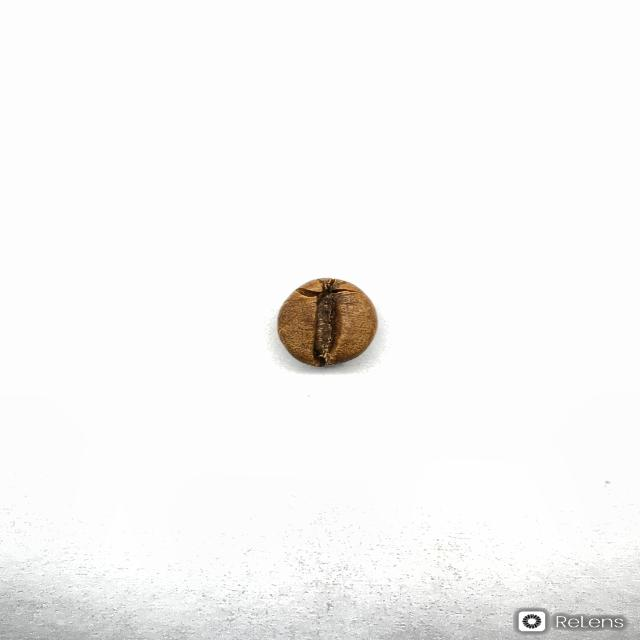Good bean: (276, 277, 378, 367)
